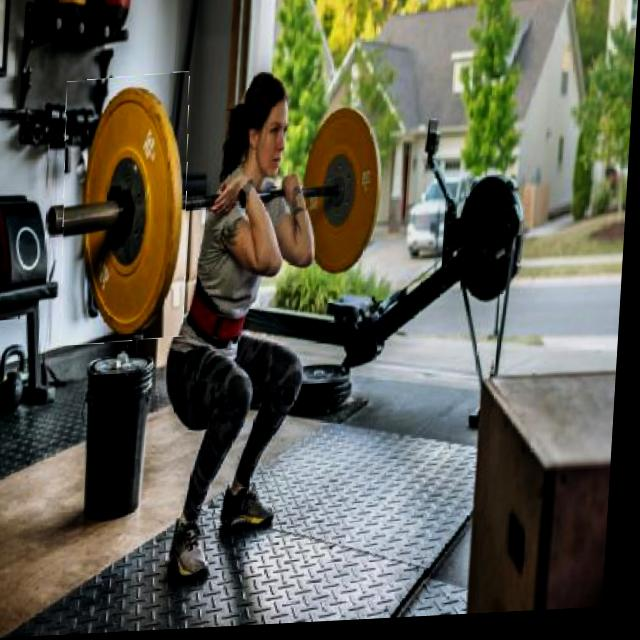barbell: (59, 75, 197, 347)
